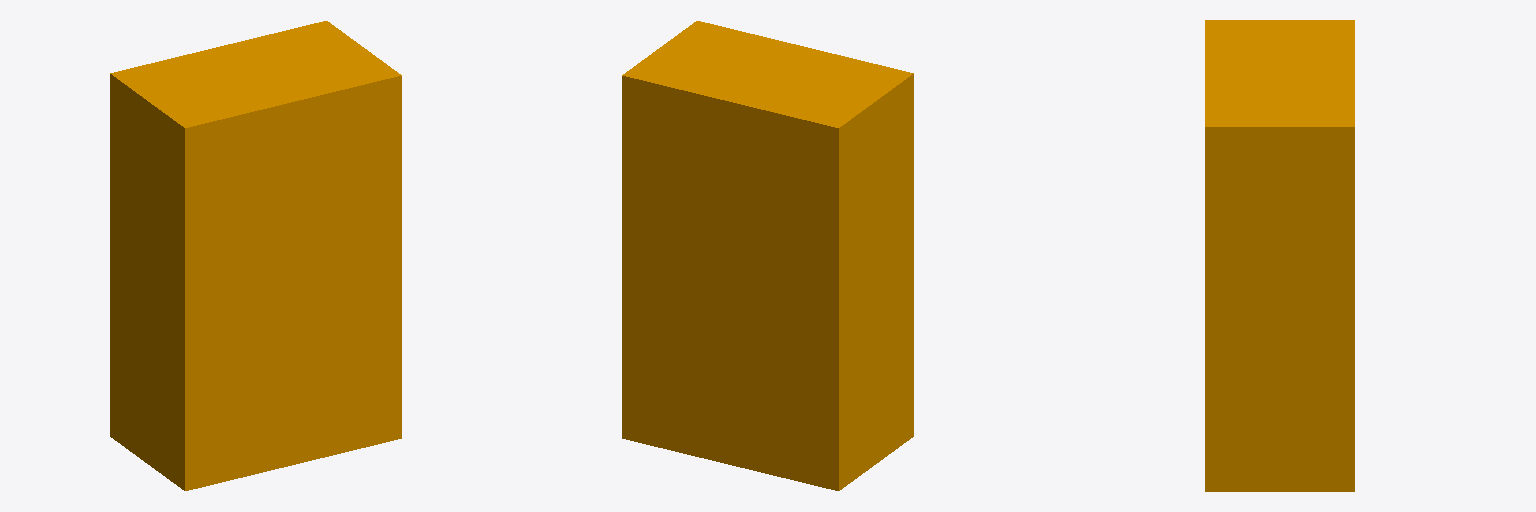
The robot description file, URDF, robot "box":
<?xml version="1.0"?>
<robot name="box">

  <link name="box">
    <collision>
      <origin xyz= "0.0 0.0 0.0" rpy="0 0 0"/>
      <geometry>
        <box size= "0.05 0.03 0.08" />
      </geometry>
      <surface>
        <contact>
          <collide_without_contact>false</collide_without_contact>
        </contact>
      </surface>
    </collision>

    <visual>
      <origin xyz= "0.0 0.0 0.0" rpy="0 0 0"/>
      <geometry>
        <box size= "0.05 0.03 0.08" />
      </geometry>
    </visual>

    <inertial>
      <origin xyz= "0.0 0.0 0.0" rpy="0 0 0"/>
      <mass value= "0.1" />
      <inertia
        ixx="0.15" ixy="0.0"  ixz="0.0"
        iyy="0.15" iyz="0.0"
        izz="0.15" />
    </inertial>
  </link>

  <gazebo reference="box">
    <material>Gazebo/Red</material>
    <mu1>0.0</mu1>
    <mu2>0.0</mu2>
    <selfCollide>false</selfCollide>
  </gazebo>

</robot>

--- Render facts (derived) ---
Views: 3 orthographic renders of the robot side by side, from view 1: azimuth 30°, elevation 25°; view 2: azimuth 150°, elevation 25°; view 3: azimuth 270°, elevation 25°.
Model box with 1 links and 0 joints (none), rooted at box, posed every joint at zero.
Visible links, largest first — view 1: box; view 2: box; view 3: box.
Link boxes in pixels (bbox=[...]): box: bbox=[110, 21, 401, 490]; box: bbox=[622, 21, 913, 490]; box: bbox=[1205, 20, 1354, 491].
Size in the robot's own frame: 0.05 by 0.03 by 0.08 metres.
Geometry: primitives only (box / cylinder / sphere), no mesh files.